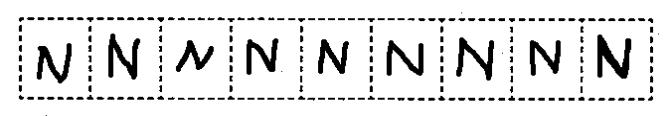N: (446, 34, 505, 86), (100, 30, 146, 86), (588, 33, 637, 84), (379, 38, 432, 85), (27, 40, 80, 86), (311, 36, 359, 78), (240, 34, 282, 80), (169, 35, 216, 75), (524, 36, 566, 77)
